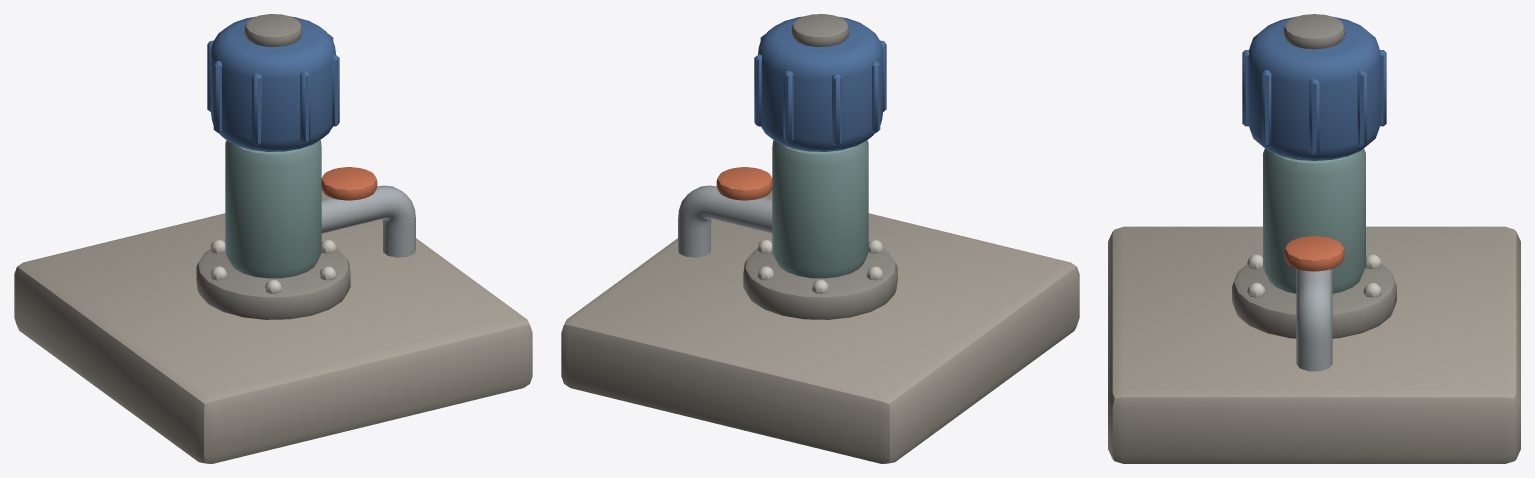
Rendered from well.glb.
3 views of the same model, side by side, from view 1: azimuth 30°, elevation 25°; view 2: azimuth 150°, elevation 25°; view 3: azimuth 270°, elevation 25° (orthographic). The views are drawn at different scales.
Visible parts, largest first — view 1: stone, sign_blue, paint, steel_dark, galv, food_c, steel; view 2: stone, sign_blue, paint, steel_dark, galv, food_c, steel; view 3: stone, sign_blue, paint, steel_dark, galv, food_c, steel.
Boxes of the visible parts, <box> form: stone: <box>14,190,532,463</box>; sign_blue: <box>207,16,339,151</box>; paint: <box>225,140,321,278</box>; steel_dark: <box>196,14,350,319</box>; galv: <box>321,185,415,257</box>; food_c: <box>321,167,377,200</box>; steel: <box>210,239,336,293</box>; stone: <box>561,190,1079,463</box>; sign_blue: <box>754,16,886,151</box>; paint: <box>772,140,868,278</box>; steel_dark: <box>743,14,897,319</box>; galv: <box>678,185,772,257</box>; food_c: <box>716,167,772,200</box>; steel: <box>757,239,883,293</box>; stone: <box>1108,226,1520,463</box>; sign_blue: <box>1242,16,1386,160</box>; paint: <box>1263,148,1365,293</box>; steel_dark: <box>1232,14,1396,338</box>; galv: <box>1296,269,1332,371</box>; food_c: <box>1284,236,1344,271</box>; steel: <box>1247,254,1381,297</box>.
Bounding box in the file's own units: 0.8 × 0.765 × 0.8.
